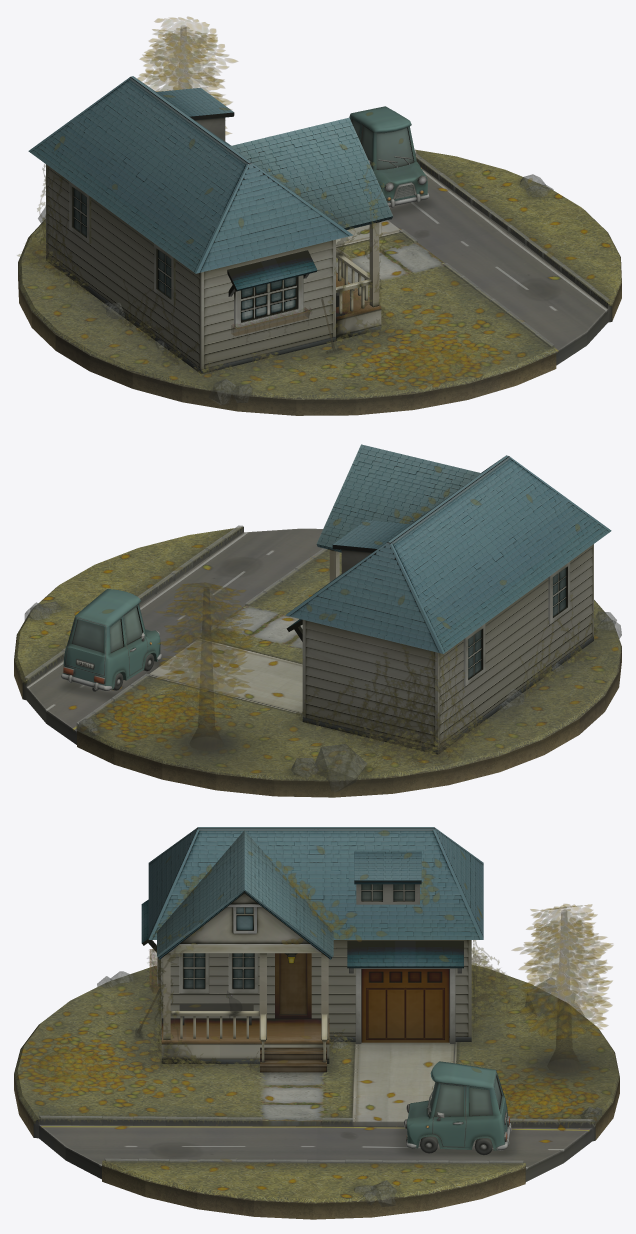
The model's file is Autumn_House.glb.
3 views of the same model, one above another, from view 1: azimuth 30°, elevation 25°; view 2: azimuth 150°, elevation 25°; view 3: azimuth 270°, elevation 25° (orthographic).
Visible parts, largest first — view 1: polySurface637_lambert15_0, House_base_House_part01_mat_0, polySurface197_House_part01_mat_0, polySurface355_lambert14_0, initialShadingGrouppolySurface116_polySurface3_lambert17_0, House_window_01_lambert16_0, polySurface226_lambert16_0, House_veranda_lambert16_0, polySurface243_lambert14_0, House_smallroof_02_lambert16_0, House_windows_06_lambert16_0, House_windows_05_lambert16_0 (+4 smaller); view 2: polySurface637_lambert15_0, House_base_House_part01_mat_0, polySurface355_lambert14_0, polySurface197_House_part01_mat_0, initialShadingGrouppolySurface116_polySurface3_lambert17_0, polySurface276_lambert14_0, polySurface250_lambert14_0, House_smallroof_02_lambert16_0, House_windows_06_lambert16_0, House_windows_05_lambert16_0, polySurface470_lambert14_0, polySurface480_lambert14_0 (+5 smaller); view 3: polySurface637_lambert15_0, House_base_House_part01_mat_0, polySurface355_lambert14_0, polySurface197_House_part01_mat_0, Garage_door_lambert16_0, initialShadingGrouppolySurface116_polySurface3_lambert17_0, House_veranda_lambert16_0, polySurface179_lambert16_0, House_roof_part_02_lambert16_0, House_door_lambert16_0, House_smallroof_02_lambert16_0, House_stairs_lambert16_0 (+14 smaller).
Boxes of the visible parts, left/top/right/bottom form: polySurface637_lambert15_0: left=18, top=149, right=621, bottom=415; House_base_House_part01_mat_0: left=28, top=76, right=352, bottom=373; polySurface197_House_part01_mat_0: left=230, top=117, right=393, bottom=229; polySurface355_lambert14_0: left=137, top=16, right=237, bottom=134; initialShadingGrouppolySurface116_polySurface3_lambert17_0: left=349, top=106, right=429, bottom=207; House_window_01_lambert16_0: left=234, top=275, right=303, bottom=328; polySurface226_lambert16_0: left=227, top=250, right=317, bottom=296; House_veranda_lambert16_0: left=336, top=273, right=381, bottom=340; polySurface243_lambert14_0: left=394, top=349, right=461, bottom=376; House_smallroof_02_lambert16_0: left=156, top=88, right=234, bottom=120; House_windows_06_lambert16_0: left=69, top=181, right=91, bottom=244; House_windows_05_lambert16_0: left=154, top=243, right=175, bottom=305; polySurface637_lambert15_0: left=14, top=526, right=621, bottom=797; House_base_House_part01_mat_0: left=285, top=455, right=611, bottom=754; polySurface355_lambert14_0: left=155, top=582, right=253, bottom=750; polySurface197_House_part01_mat_0: left=316, top=444, right=481, bottom=552; initialShadingGrouppolySurface116_polySurface3_lambert17_0: left=61, top=589, right=161, bottom=691; polySurface276_lambert14_0: left=313, top=744, right=366, bottom=792; polySurface250_lambert14_0: left=115, top=701, right=185, bottom=730; House_smallroof_02_lambert16_0: left=332, top=520, right=410, bottom=552; House_windows_06_lambert16_0: left=463, top=623, right=485, bottom=686; House_windows_05_lambert16_0: left=548, top=561, right=570, bottom=624; polySurface470_lambert14_0: left=419, top=731, right=464, bottom=765; polySurface480_lambert14_0: left=376, top=730, right=424, bottom=762; polySurface637_lambert15_0: left=14, top=965, right=619, bottom=1219; House_base_House_part01_mat_0: left=148, top=827, right=483, bottom=1041; polySurface355_lambert14_0: left=512, top=904, right=613, bottom=1072; polySurface197_House_part01_mat_0: left=157, top=830, right=333, bottom=959; Garage_door_lambert16_0: left=355, top=968, right=455, bottom=1043; initialShadingGrouppolySurface116_polySurface3_lambert17_0: left=404, top=1061, right=511, bottom=1155; House_veranda_lambert16_0: left=161, top=1018, right=329, bottom=1063; polySurface179_lambert16_0: left=347, top=941, right=463, bottom=973; House_roof_part_02_lambert16_0: left=180, top=893, right=309, bottom=943; House_door_lambert16_0: left=275, top=953, right=311, bottom=1018; House_smallroof_02_lambert16_0: left=354, top=851, right=421, bottom=884; House_stairs_lambert16_0: left=260, top=1047, right=326, bottom=1072.
Size of the model in its own units: 50.27 by 18.7 by 50.43.
6 materials, 5 textured.
